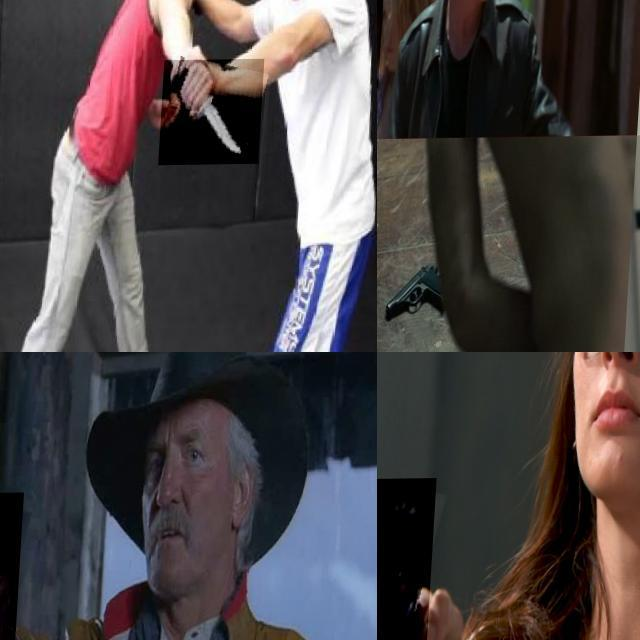-: (163, 60, 268, 166)
gun-knife-thesis - v11 Yolov5 augmented: (0, 493, 76, 640), (377, 478, 444, 640), (386, 256, 461, 335), (377, 0, 404, 94)
